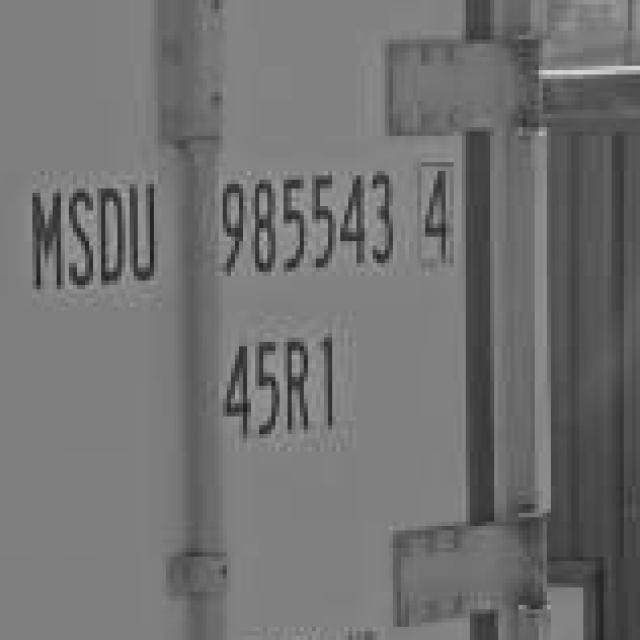dv: (409, 163, 464, 269)
owner: (11, 175, 166, 297)
serial: (205, 171, 402, 275)
size: (202, 324, 362, 441)
